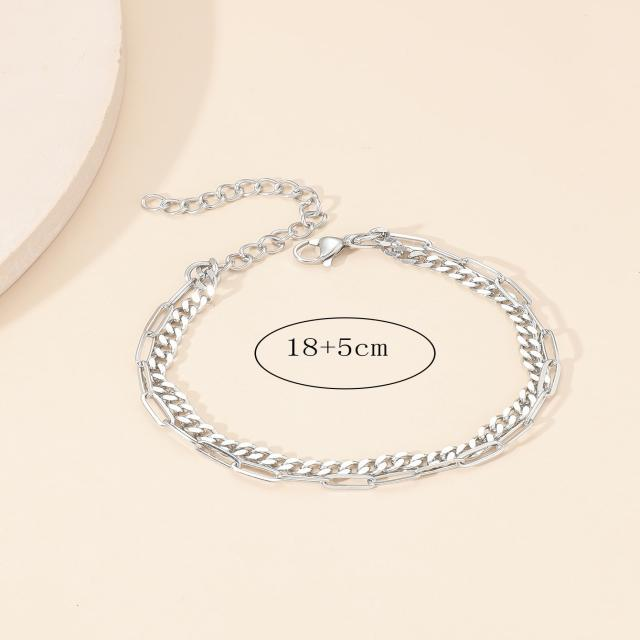bracelet: (35, 122, 640, 518)
